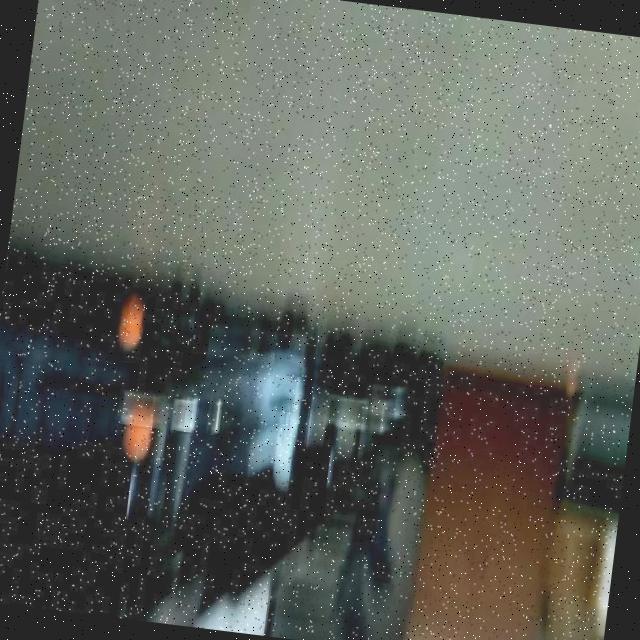ping-pong-ball: (116, 396, 160, 459), (110, 298, 148, 357)
